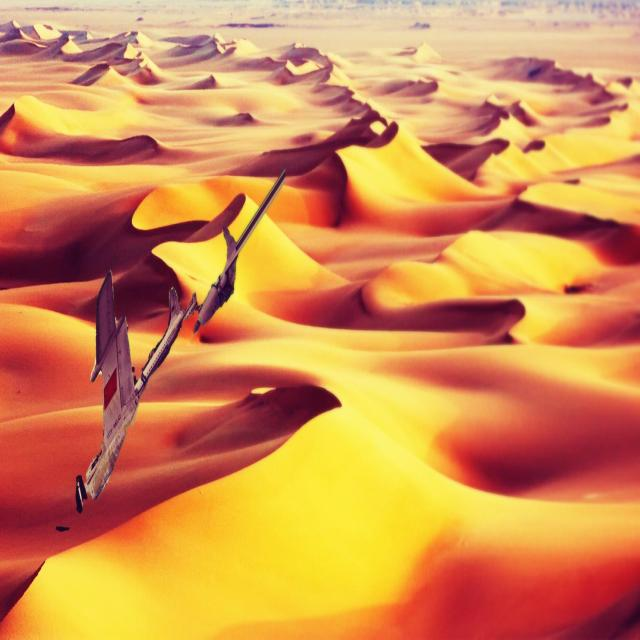airplane: (74, 166, 287, 514)
